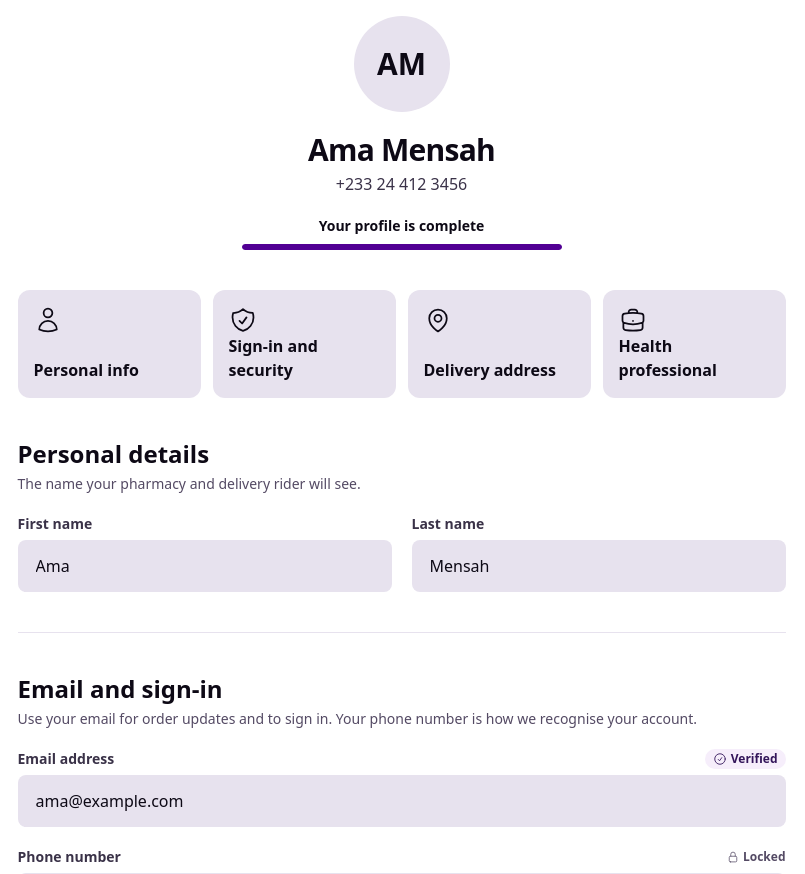
Test case: Profile: unsaved changes › shows a save bar, announced politely, as soon as a field is edited
Replace the text in the field with id "fname" with "Abena" at (204,566), box [18,540,392,592]
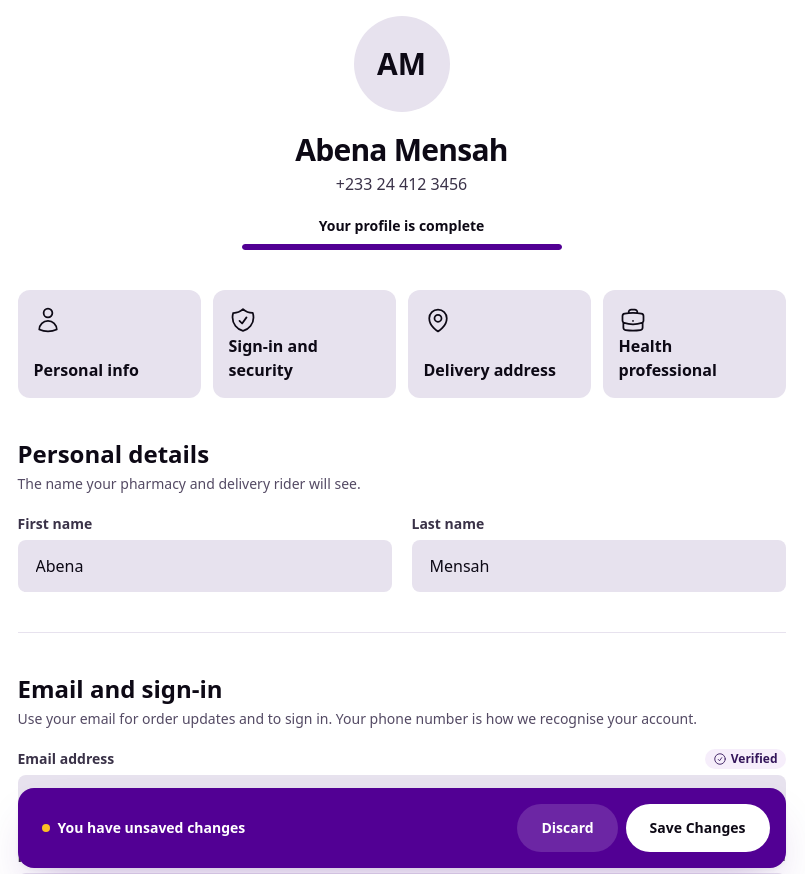
Expected: the element with test id "save-bar" is shown, [18,788,786,868]
Expected: the element with test id "save-bar" shows "You have unsaved changes", [58,818,245,837]
